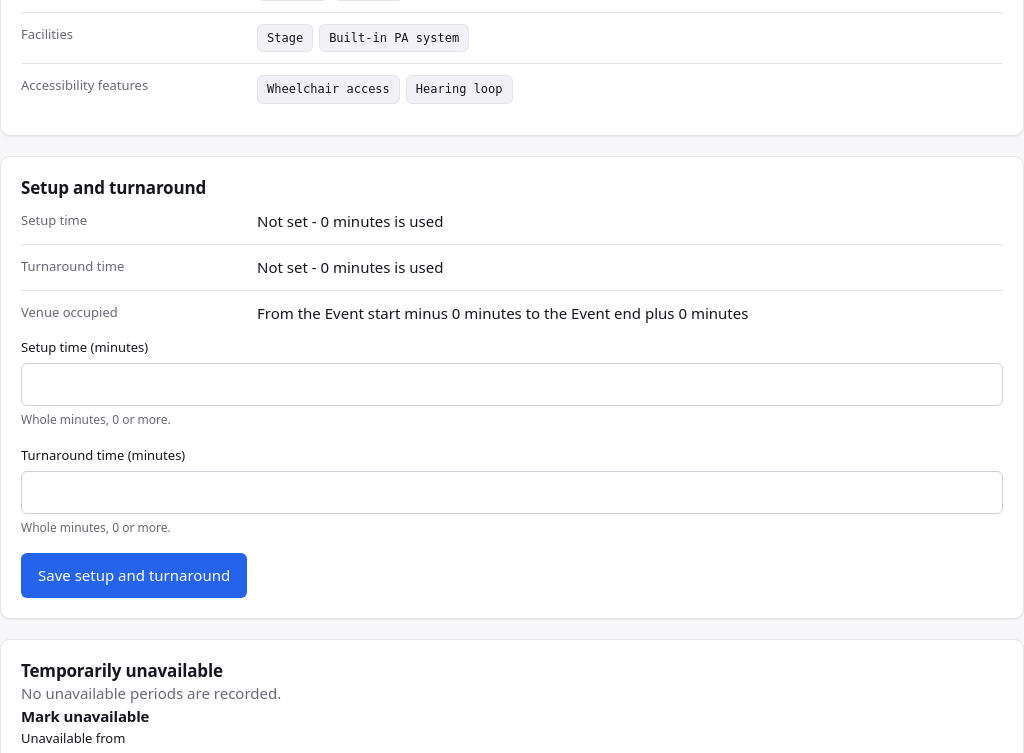
SCRUM-78 setup and turnaround › AC2: a server refusal is shown next to the field it names
(page scrolled)
In the field labelled "Setup time (minutes)": [512, 384] box [21,363,1003,406], type "5000"
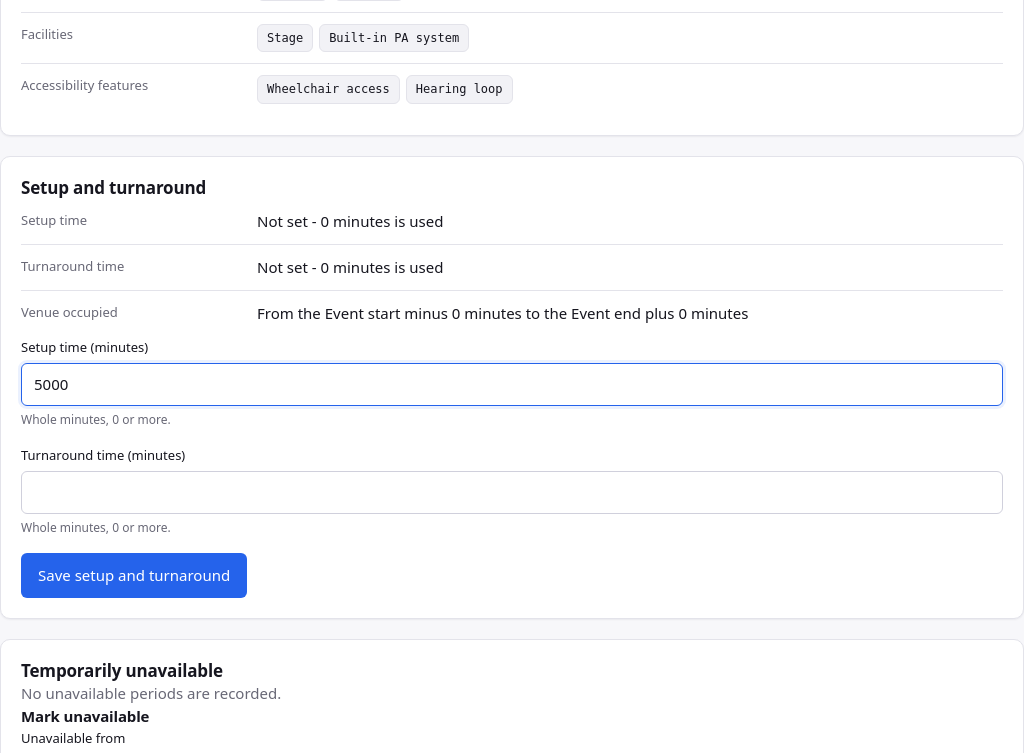
In the field labelled "Turnaround time (minutes)": [512, 492] box [21,471,1003,514], type "10"
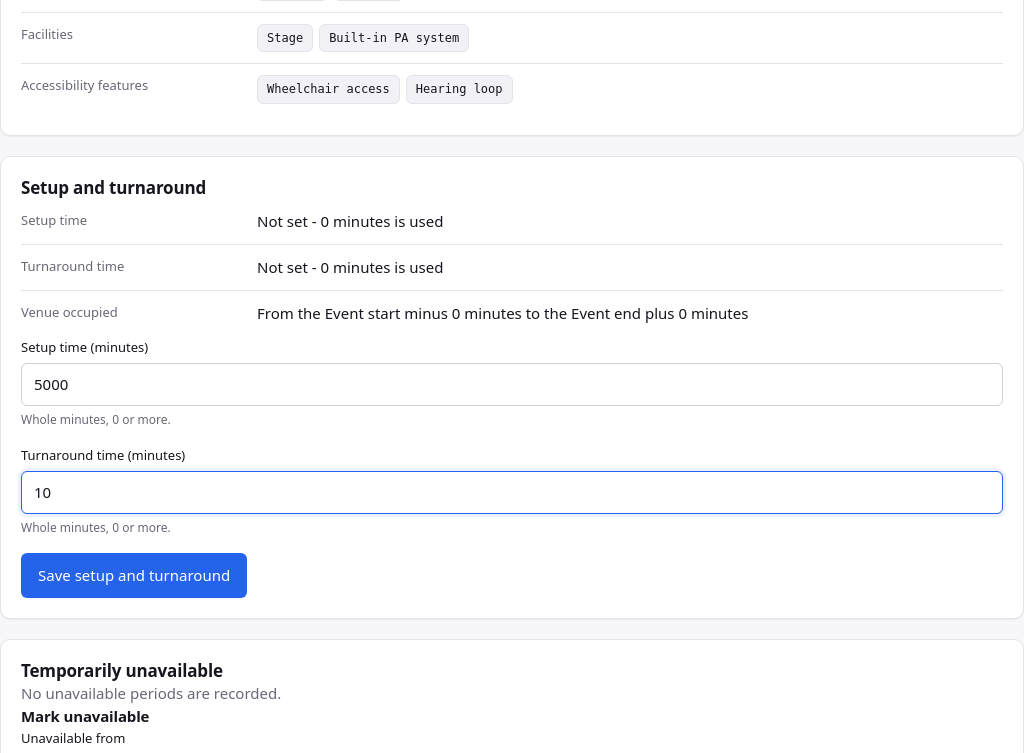
Click the button "Save setup and turnaround": [134, 575] box [21,552,247,598]
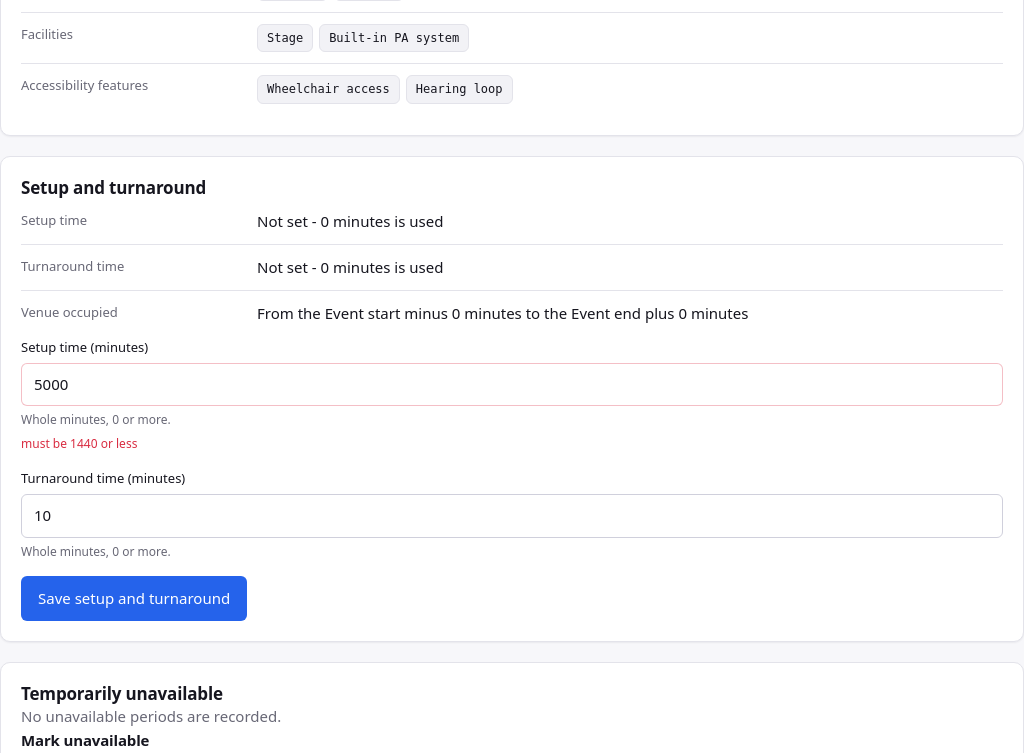
expect the message reads "must be 1440 or less": met, box [21,434,137,452]
